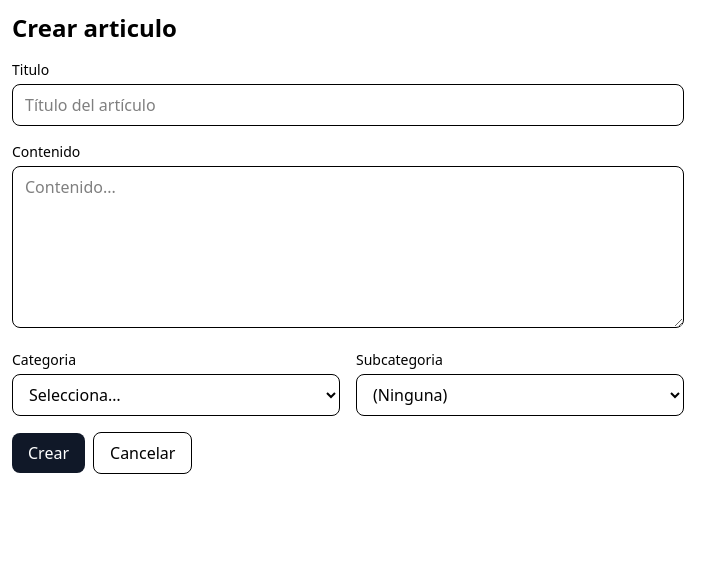
Test: muestra errores de validacion
The image size is (701, 563).
Step 1. Click the button "Crear" → x=48, y=453, box [12, 433, 85, 473]
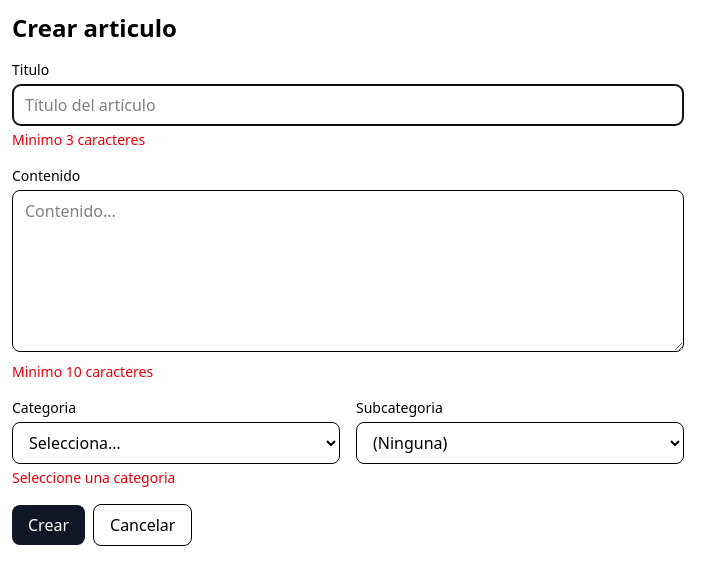
Result: the text "Minimo 3 caracteres" is shown at [12, 130, 145, 149]
Result: the text "Minimo 10 caracteres" is shown at [12, 362, 153, 381]
Result: the text "Seleccione una categoria" is shown at [12, 468, 176, 487]
